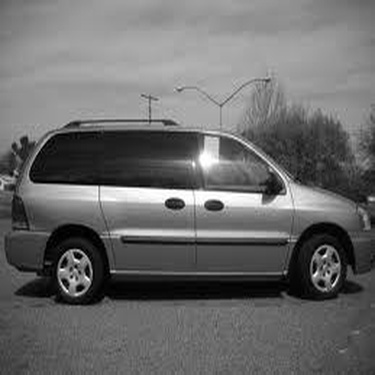car: (5, 106, 371, 311)
